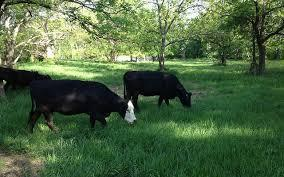cow: (28, 79, 137, 133), (123, 71, 191, 113)
